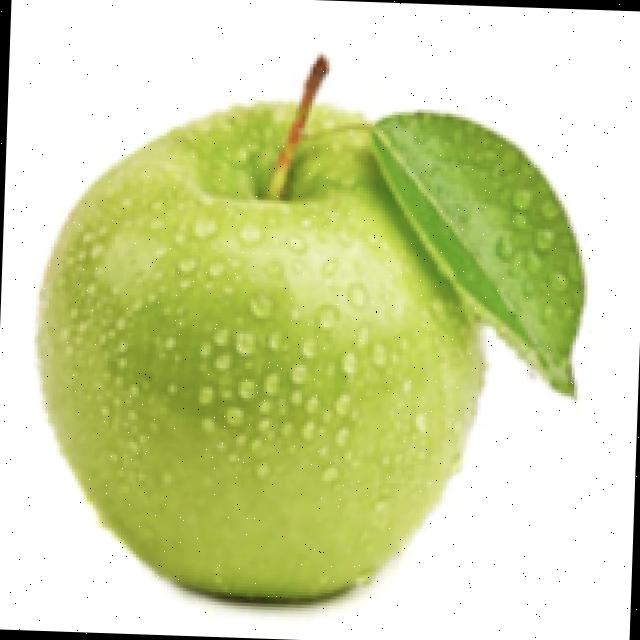apple: (28, 89, 588, 621)
